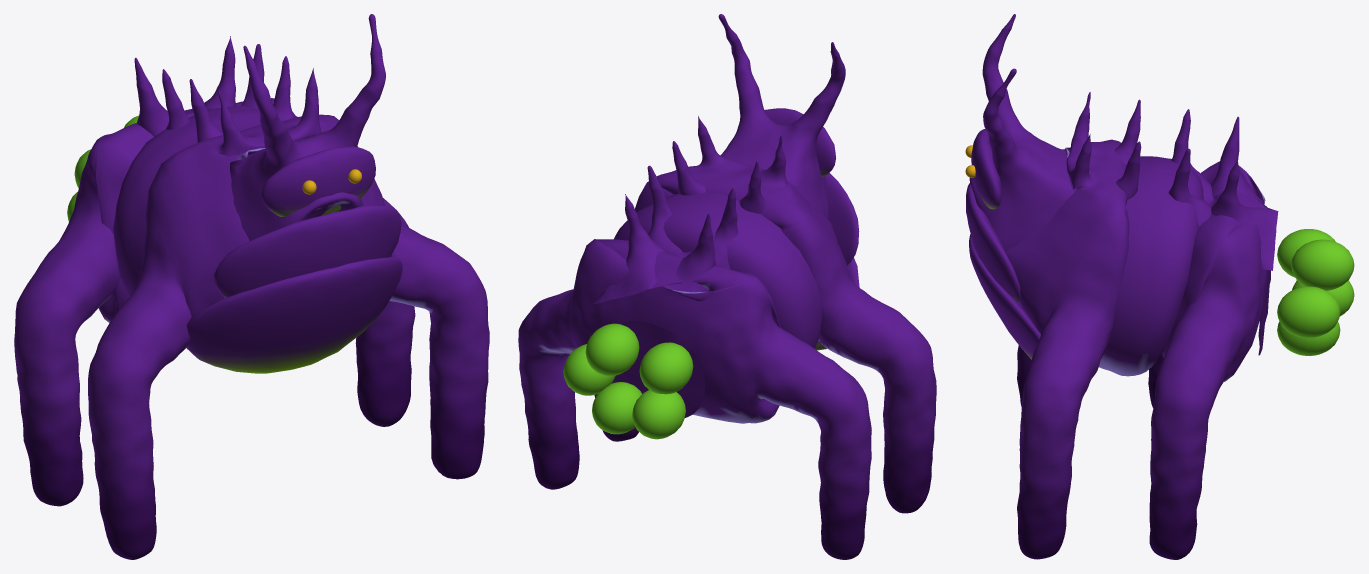
The model's file is Enemy_NestGuardian.fbx.
The picture shows the model from 3 angles, left to right: view 1: azimuth 30°, elevation 25°; view 2: azimuth 150°, elevation 25°; view 3: azimuth 270°, elevation 25°; orthographic projection. The views are drawn at different scales.
Parts seen in each view (by area): view 1: Enemy_NestGuardian; view 2: Enemy_NestGuardian; view 3: Enemy_NestGuardian.
Boxes of the visible parts, <box> form: Enemy_NestGuardian: <box>14,14,489,559</box>; Enemy_NestGuardian: <box>518,14,936,559</box>; Enemy_NestGuardian: <box>965,14,1354,559</box>.
Bounding box in the file's own units: 3.47 × 4.2 × 3.32.
